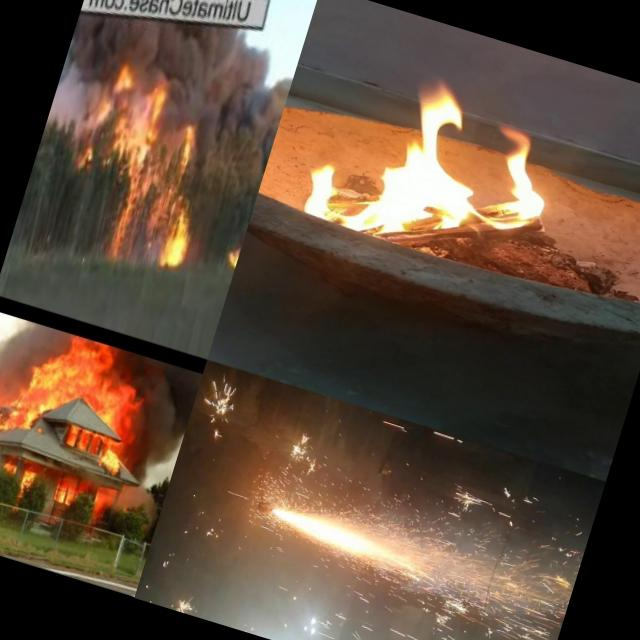fire: (296, 50, 572, 282), (41, 336, 141, 464), (92, 69, 181, 163), (149, 181, 216, 282), (380, 580, 474, 640), (12, 346, 67, 434), (0, 457, 39, 497), (50, 476, 85, 514), (0, 390, 17, 436)
smoke: (157, 23, 286, 163), (114, 355, 202, 463), (44, 42, 120, 146), (0, 313, 26, 399), (114, 448, 166, 490), (2, 340, 36, 402), (21, 320, 74, 354)
